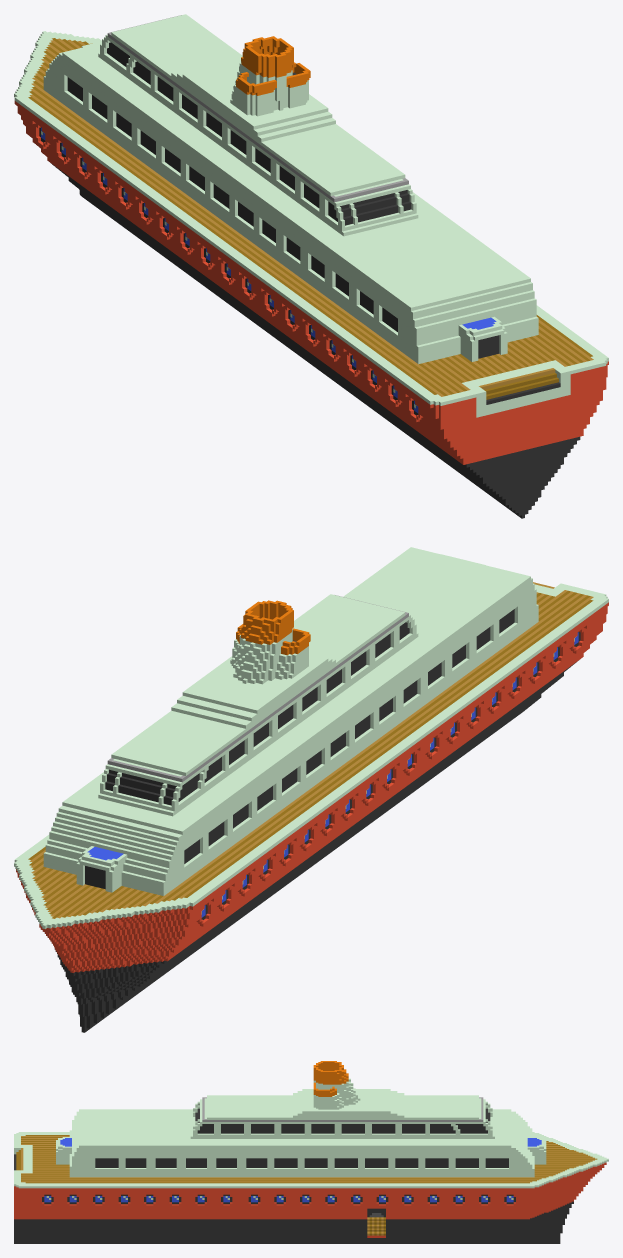
The model's file is SSAqua.fbx.
3 views of the same model, one above another, from view 1: azimuth 30°, elevation 25°; view 2: azimuth 150°, elevation 25°; view 3: azimuth 270°, elevation 25° (orthographic). The views are drawn at different scales.
Parts seen in each view (by area): view 1: SSAnne; view 2: SSAnne; view 3: SSAnne.
Boxes of the visible parts, x1,y1,x2,y2 form: SSAnne: [14, 14, 608, 518]; SSAnne: [14, 547, 608, 1032]; SSAnne: [14, 1061, 608, 1243].
Size of the model in its own units: 550 by 840 by 2560.
1 material, 1 textured.
